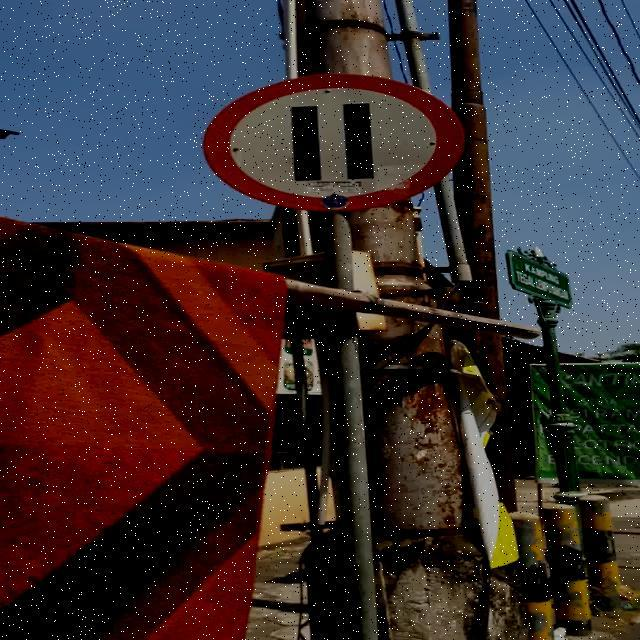Larangan Muatan - 10 ton: (202, 74, 464, 210)
